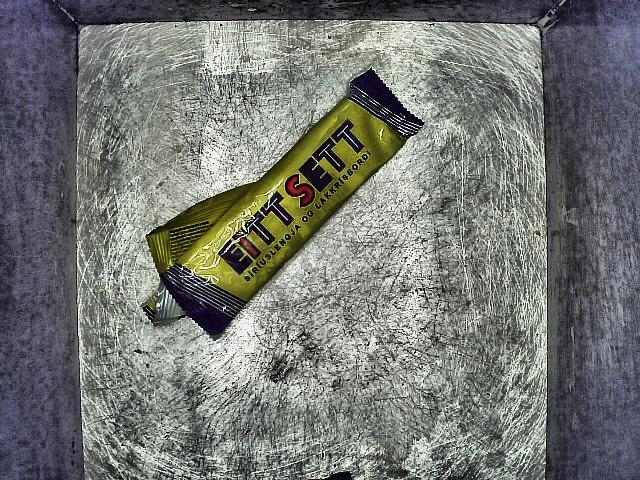Plastic: (113, 68, 433, 345)
